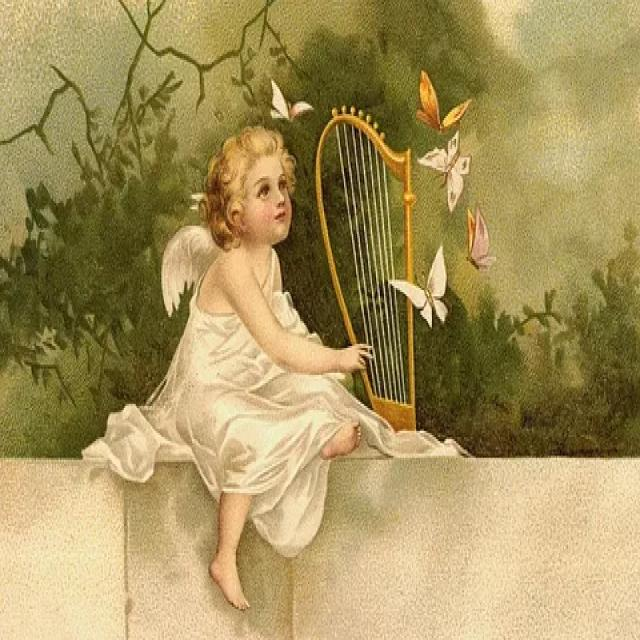angel: (91, 75, 485, 584)
